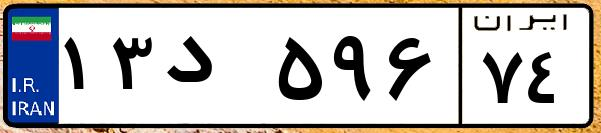1: (57, 26, 110, 100)
3: (110, 28, 158, 98)
4: (525, 38, 570, 115)
5: (270, 28, 330, 110)
6: (385, 28, 445, 110)
7: (475, 38, 525, 113)
9: (330, 28, 385, 110)
د: (158, 20, 270, 120)
